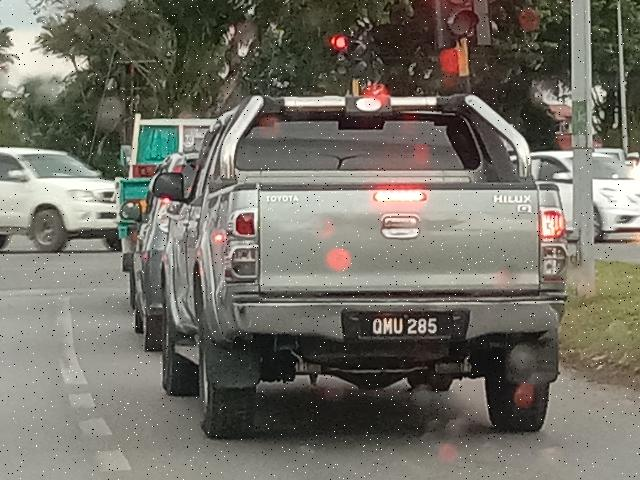License_Plate: (360, 313, 453, 342)
car: (140, 83, 578, 439)
